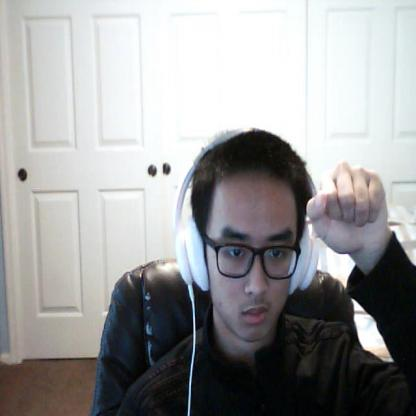fist: (301, 159, 391, 258)
